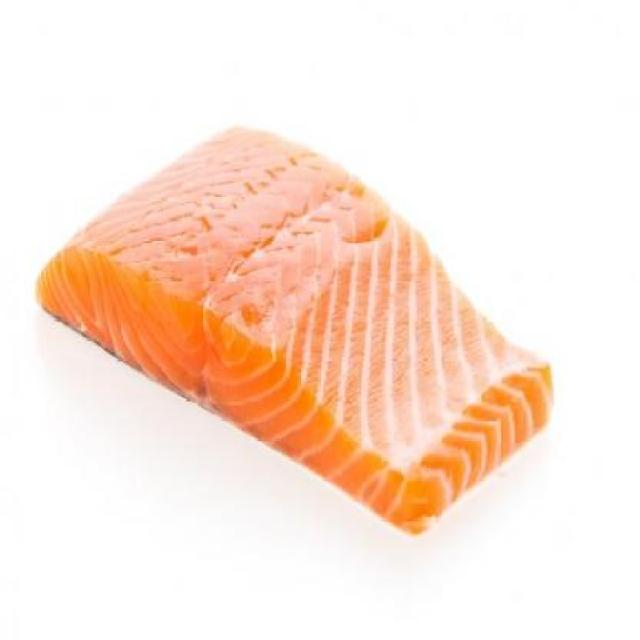salmon: (32, 106, 576, 551)
